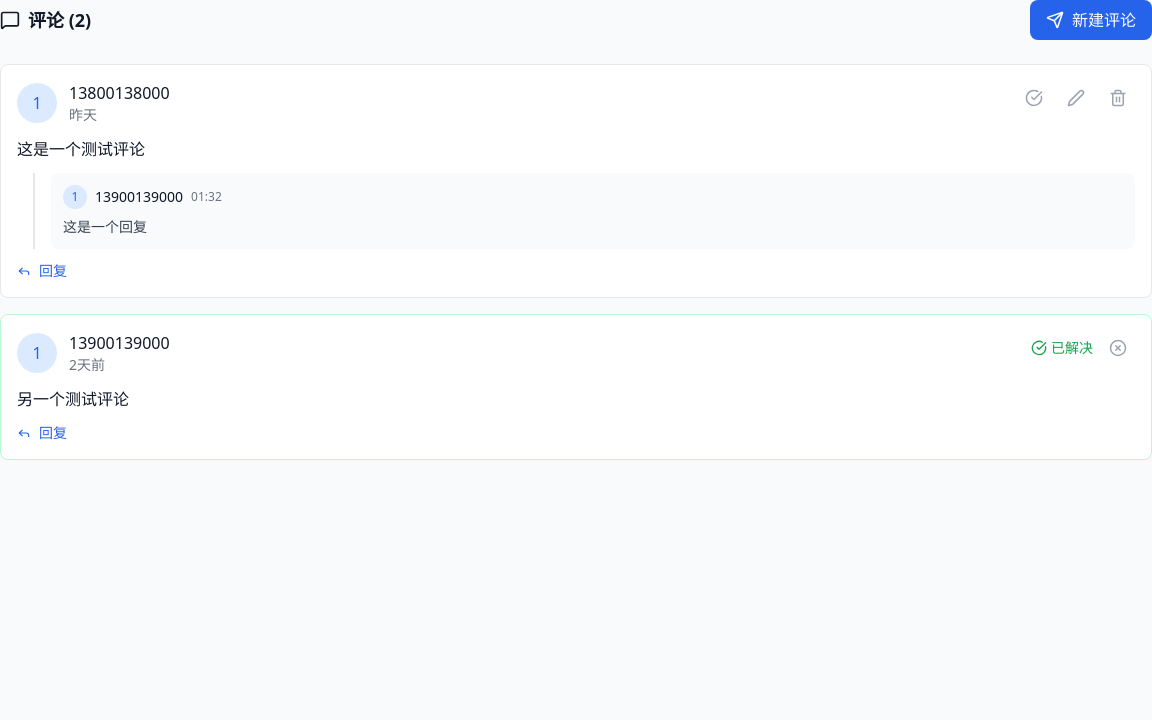
Test: CommentManagement组件测试 › 应该能够打开新建评论模态框
Click the button "新建评论": click(1091, 20) [1030,0,1151,40]
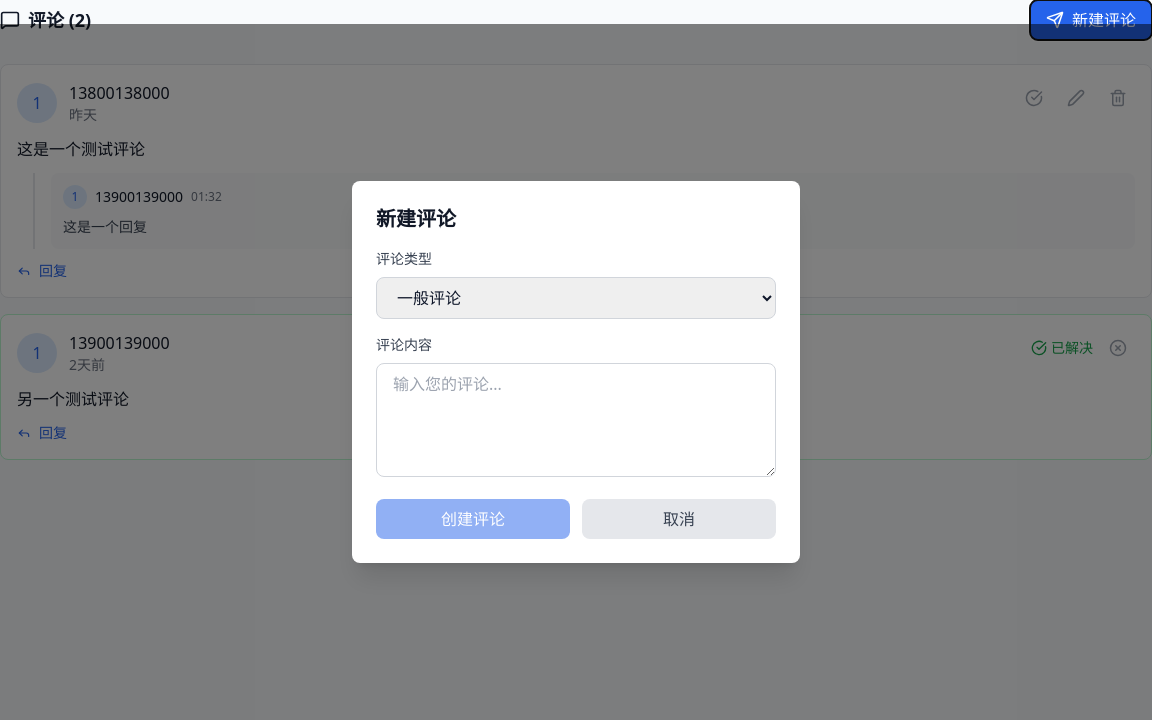
Result: the text "评论类型" is shown at [376,249,432,268]
Result: the text "评论内容" is shown at [376,335,432,354]
